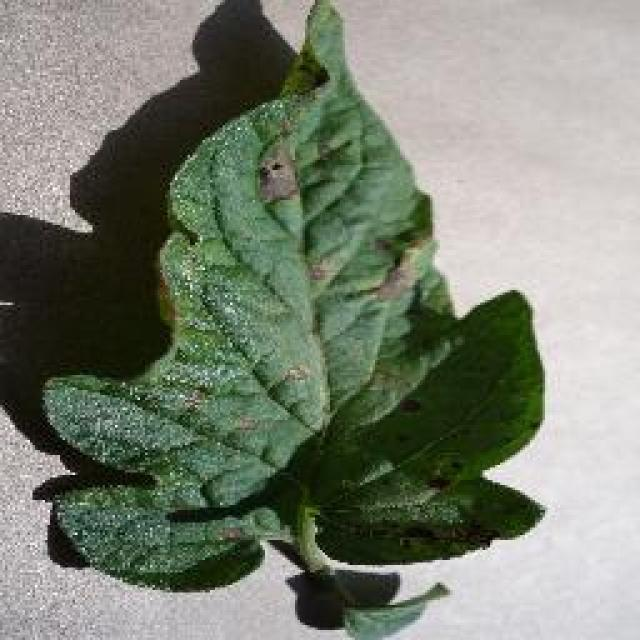Tomato Early blight leaf: (44, 0, 552, 590)
